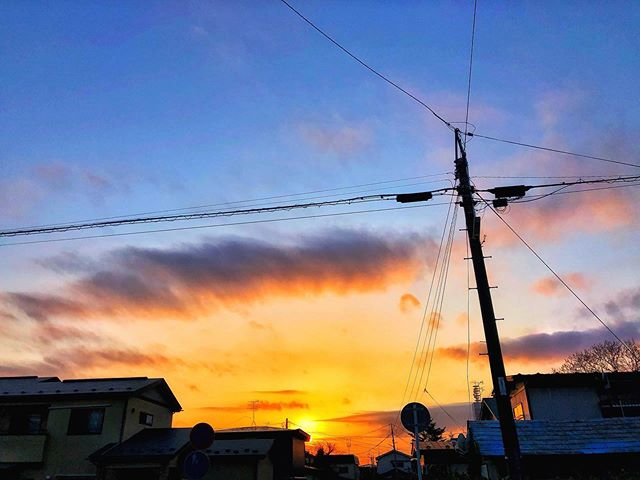building: (473, 368, 640, 480), (1, 373, 173, 480), (119, 422, 308, 480)
power pole: (408, 114, 535, 480)
sky: (6, 1, 640, 369)
